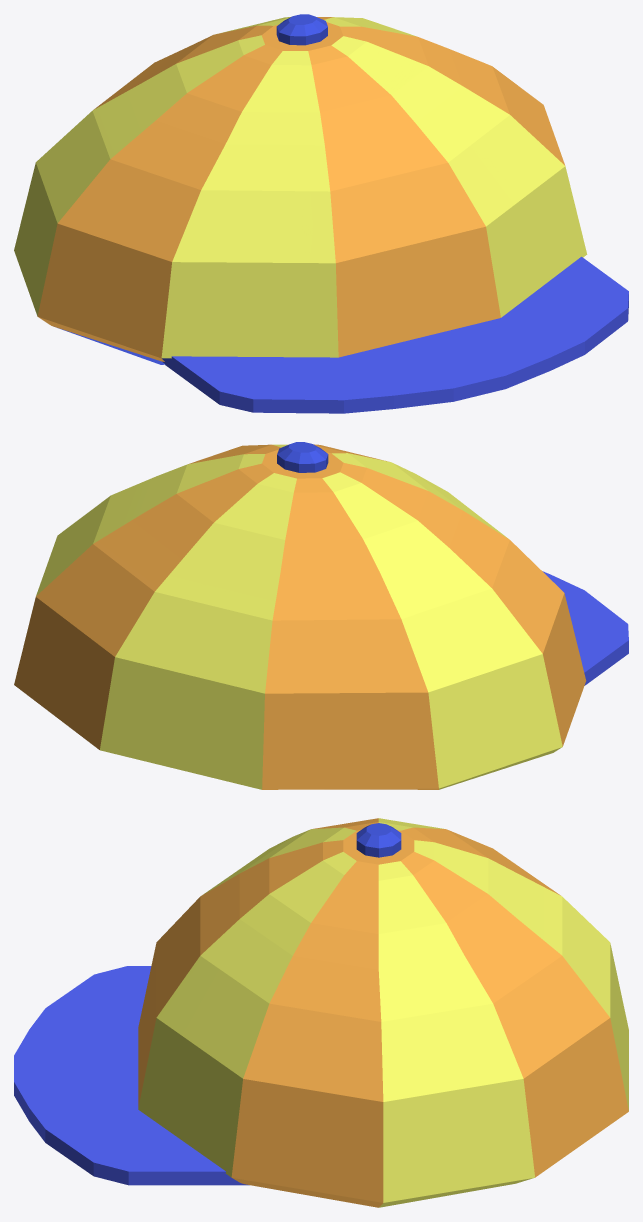
File: CapHat.fbx
3 views of the same model, one above another, from view 1: azimuth 30°, elevation 25°; view 2: azimuth 150°, elevation 25°; view 3: azimuth 270°, elevation 25° (orthographic). The views are drawn at different scales.
Visible parts, largest first — view 1: Sphere.003, Sphere.009, Sphere.012, Sphere; view 2: Sphere.009, Sphere.003, Sphere.012, Sphere; view 3: Sphere.009, Sphere.003, Sphere.012, Sphere.
Part boxes in pixels (box(x1,y1,x2,y2)): Sphere.003: box(14, 17, 587, 358); Sphere.009: box(37, 17, 565, 361); Sphere.012: box(162, 256, 628, 413); Sphere: box(58, 14, 327, 364); Sphere.009: box(14, 444, 586, 789); Sphere.003: box(36, 444, 562, 789); Sphere.012: box(542, 571, 628, 685); Sphere: box(277, 442, 328, 472); Sphere.009: box(138, 818, 628, 1207); Sphere.003: box(138, 818, 628, 1207); Sphere.012: box(14, 966, 249, 1185); Sphere: box(356, 823, 401, 857).
Size of the model in its own units: 493 by 220 by 486.
